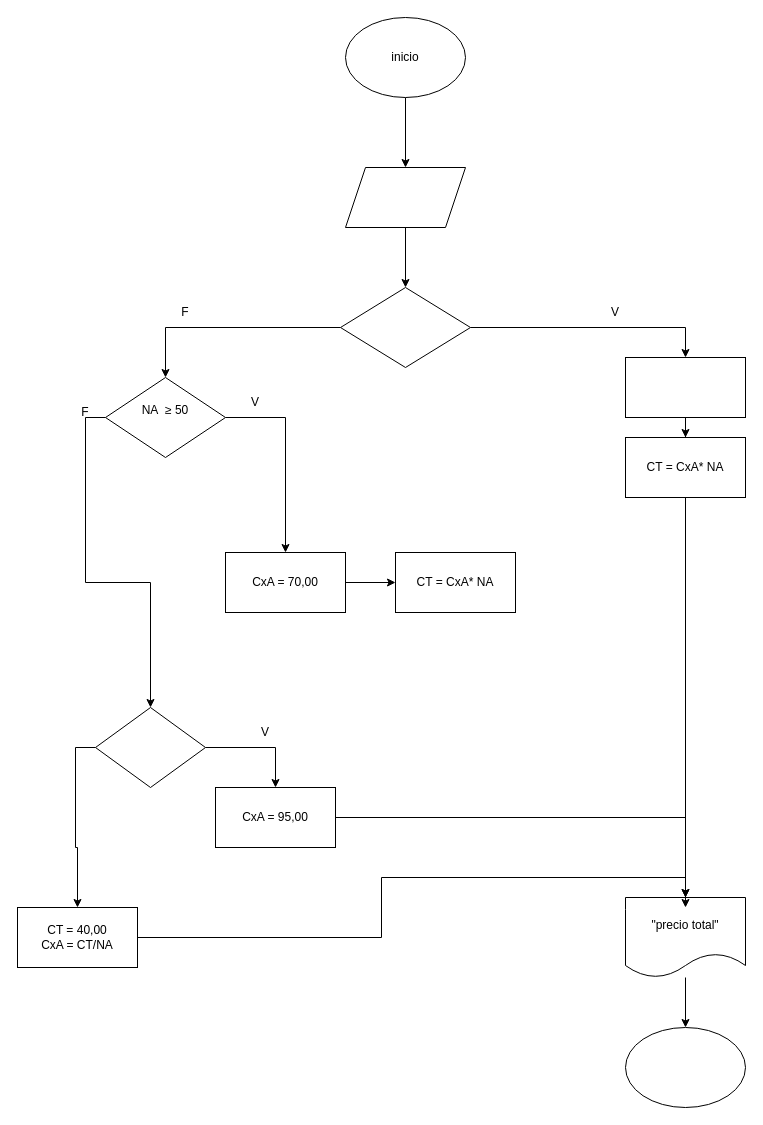
The diagram is 763 pixels wide and 1125 high, and some of its shapes have lost their labels. Here are the shapes that lost their labels. From the top down, the centre of each, then its label:
At pixel 405 197: "NA".
At pixel 405 327: "NA ≥ 100".
At pixel 685 387: "CxA = 65,00".
At pixel 150 747: "NA ≥ 30".
